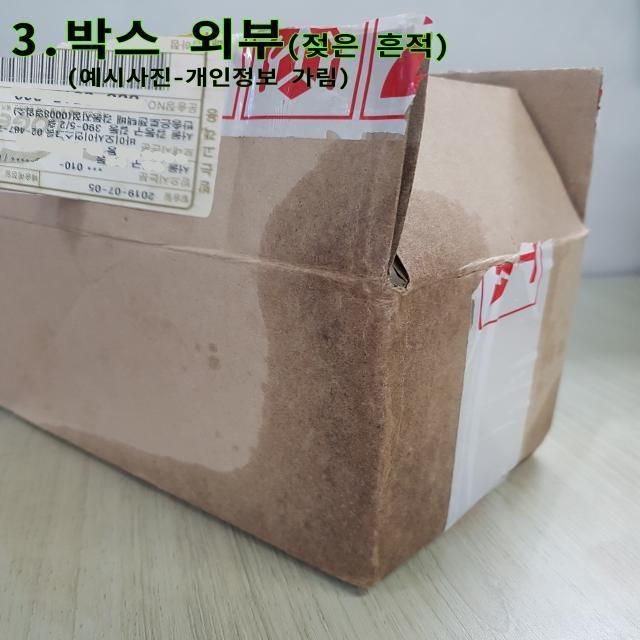wet: (232, 168, 470, 572)
